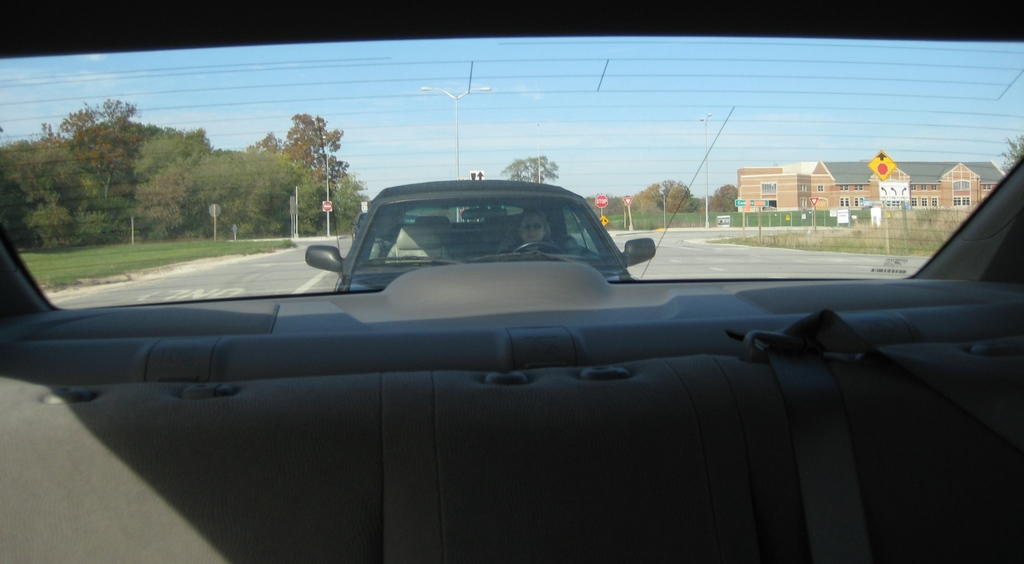Car: (0, 3, 1023, 563), (302, 166, 659, 292)
